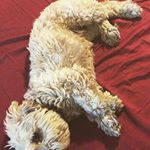puppy: (6, 1, 145, 150)
